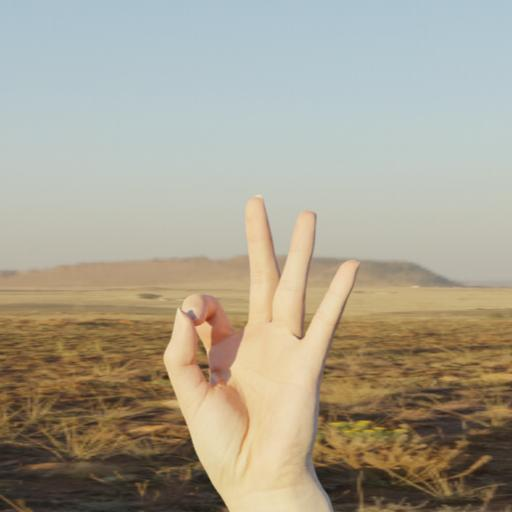F: (156, 188, 363, 496)
